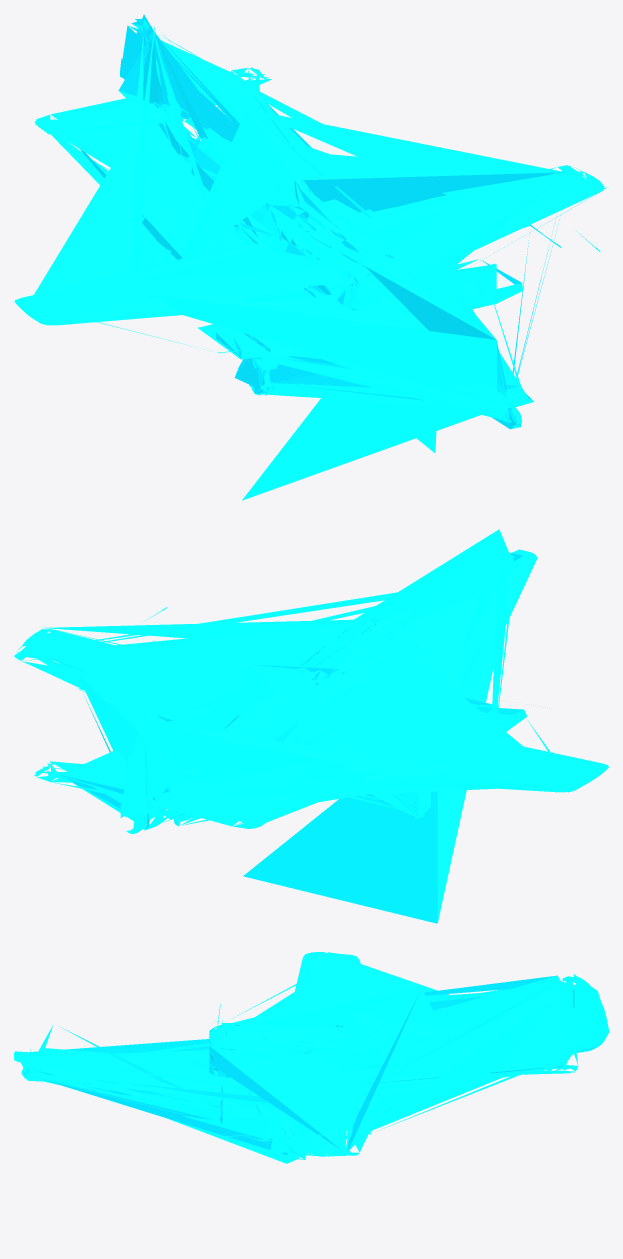
Rendered from PRAF905.glb.
3 views of the same model, one above another, from view 1: azimuth 30°, elevation 25°; view 2: azimuth 150°, elevation 25°; view 3: azimuth 270°, elevation 25° (orthographic). The views are drawn at different scales.
Visible parts, largest first — view 1: misc; view 2: misc; view 3: misc.
Boxes of the visible parts, box(x1,y1,x2,y2) form: misc: box(14, 14, 608, 500); misc: box(14, 529, 608, 923); misc: box(14, 952, 608, 1163).
Bounding box in the file's own units: 0.6526 × 0.3529 × 0.8052.
